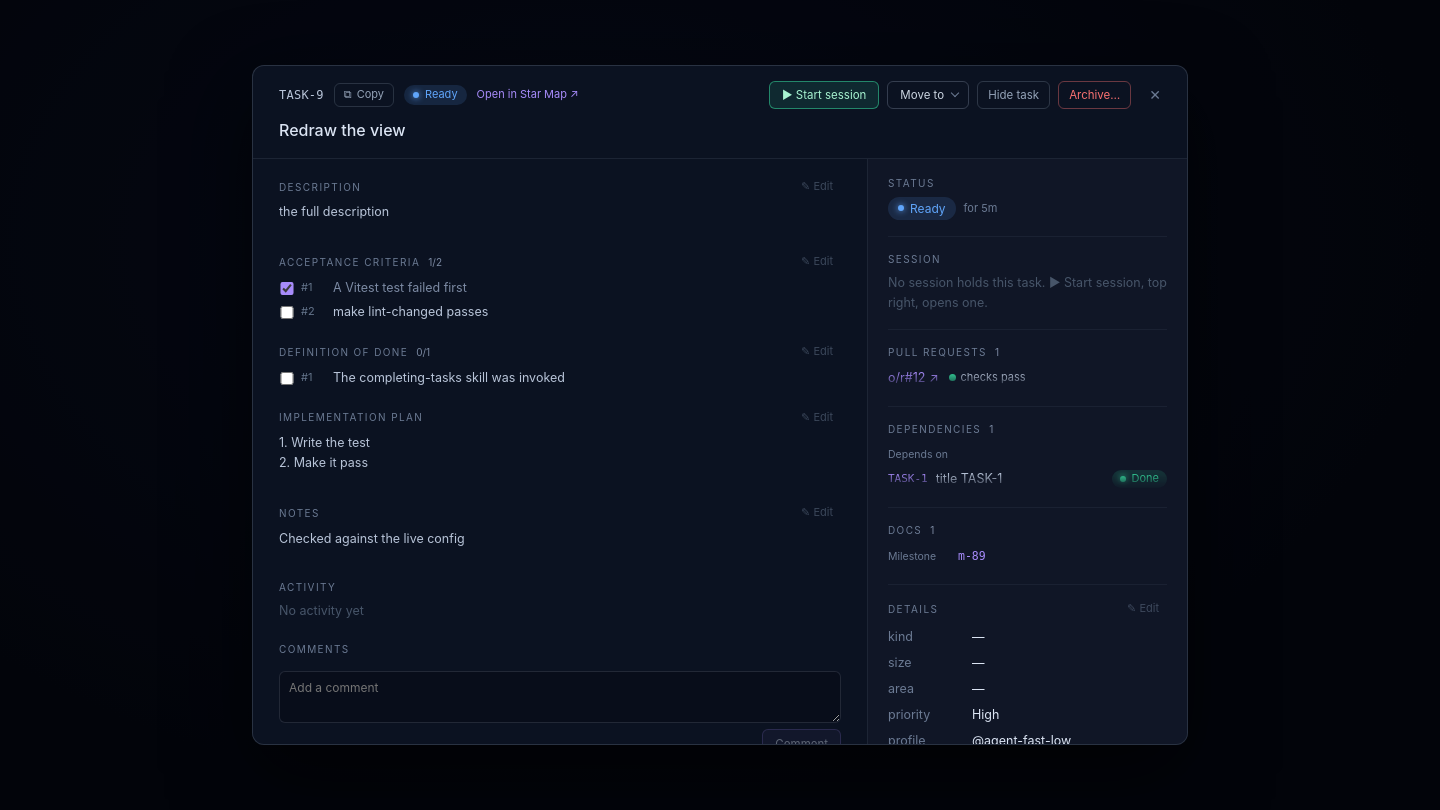
it: editing one section at a time › a claimed task › opens Details on its profile and offers only the configured profiles
Click the button "✎ Edit" in the row of "Details" at (1143, 609), box [1119,599,1167,618]
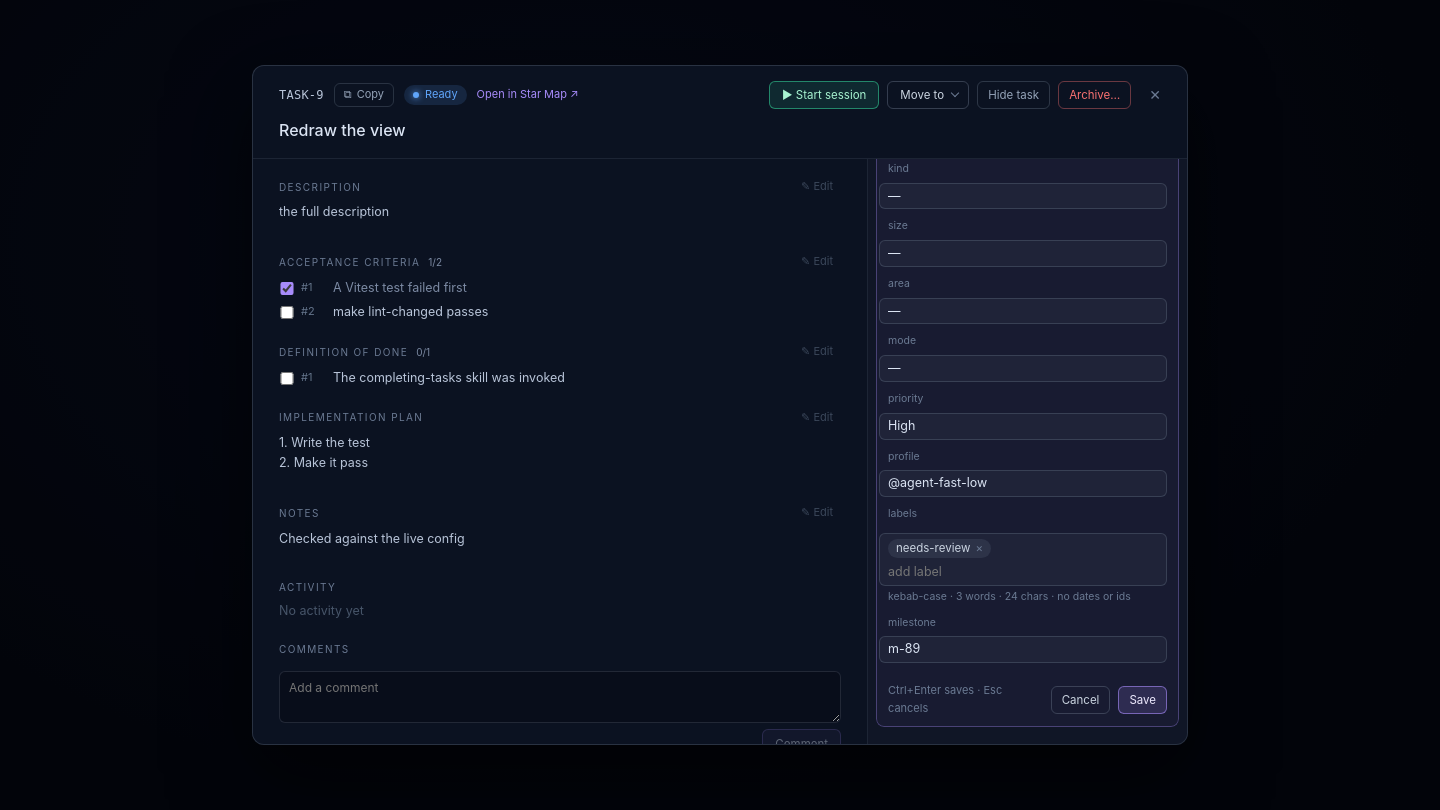
Now the dropdown named "Profile" shows "@agent-fast-low", box [879,470,1167,497]
